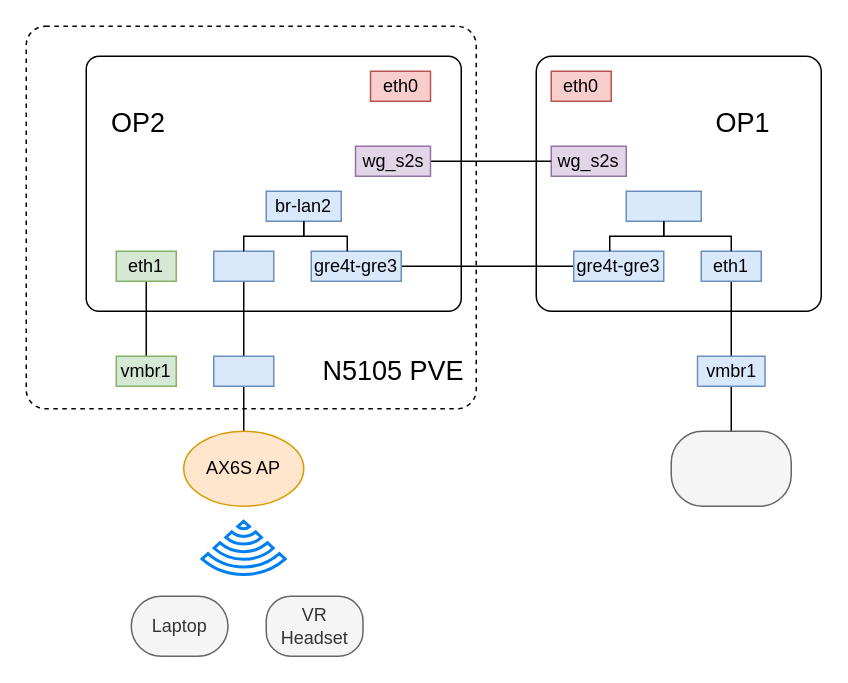
Image size: 848x683. Some labels were removed from this diagram. Here are the shapes that lost their labels. From the top down, the centre of each, then its label:
At point 663,205: "br-lan".
At point 243,265: "eth2".
At point 243,370: "vmbr2".
At point 730,468: "KVM-Win10".
